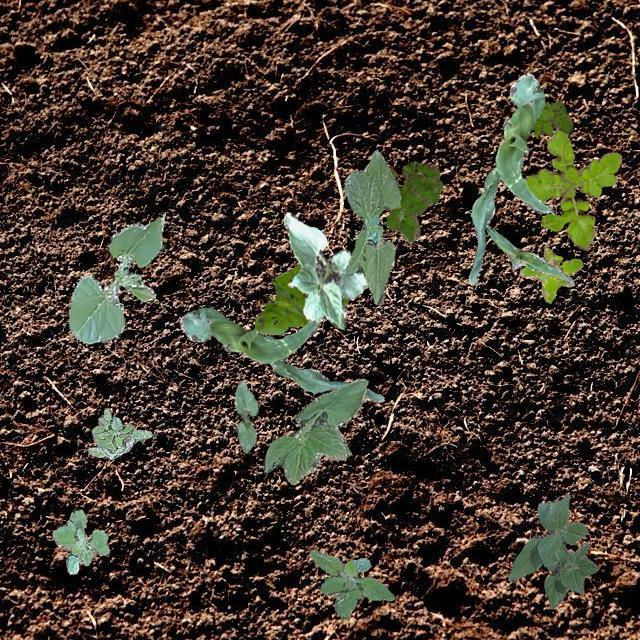crop: (178, 306, 382, 402), (468, 72, 552, 284), (68, 212, 164, 342), (262, 378, 366, 483), (507, 492, 598, 608), (283, 212, 367, 328), (342, 148, 400, 304), (484, 224, 572, 284), (234, 379, 256, 452)
weed: (522, 128, 620, 248), (254, 262, 348, 334), (308, 548, 394, 618), (382, 160, 442, 242), (51, 508, 108, 574), (518, 246, 582, 302), (86, 406, 152, 458), (532, 100, 572, 138)
